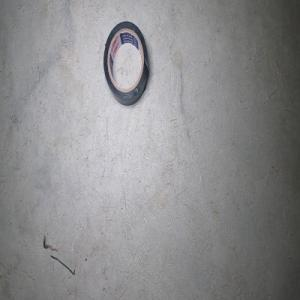Tape: (103, 20, 149, 105)
